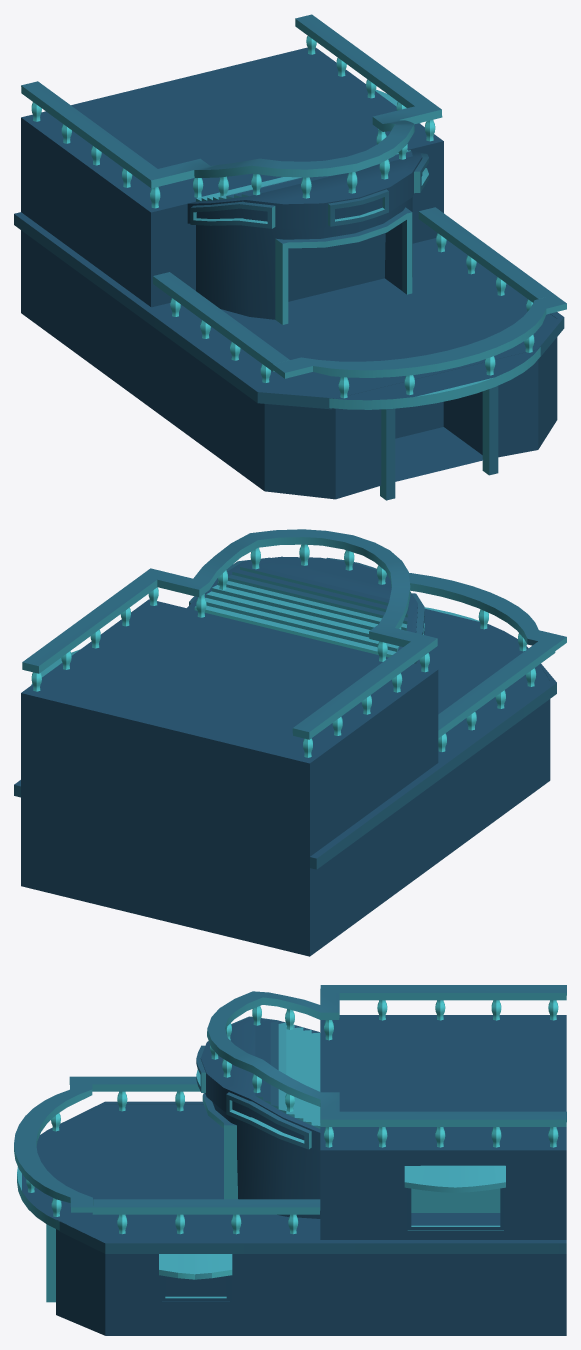
The model's file is Restaurant_LV3.FBX.
3 renders of one model, top to bottom at view 1: azimuth 30°, elevation 25°; view 2: azimuth 150°, elevation 25°; view 3: azimuth 270°, elevation 25°, orthographic. The views are drawn at different scales.
Visible parts, largest first — view 1: Restaurant; view 2: Restaurant; view 3: Restaurant.
Boxes of the visible parts, box(x1,y1,x2,y2) form: Restaurant: box(14, 14, 566, 500); Restaurant: box(14, 529, 566, 956); Restaurant: box(14, 985, 566, 1335).
Bounding box in the file's own units: 19.26 × 14.41 × 29.18.
